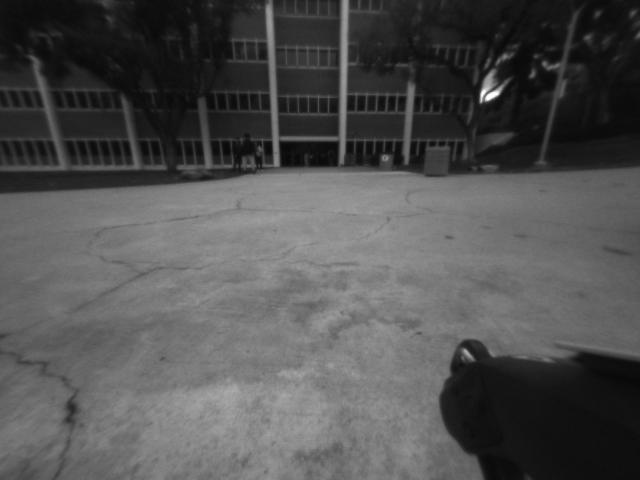trashcan: (426, 144, 449, 181), (376, 149, 401, 176)
